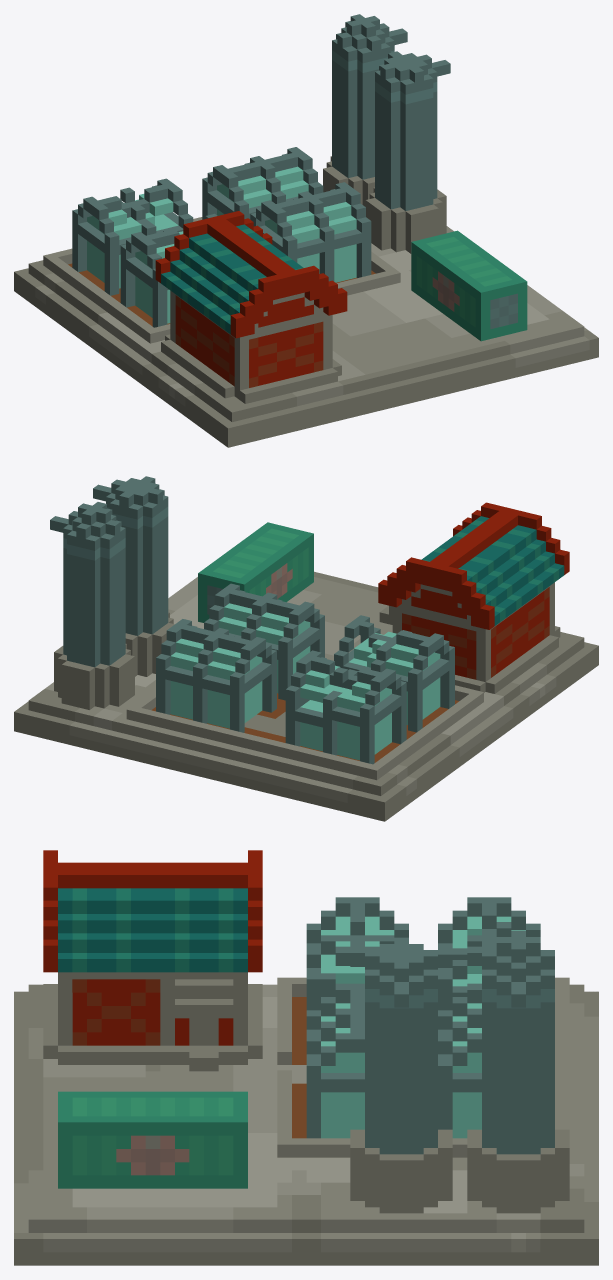
Rendered from Farm.obj.
3 views of the same model, one above another, from view 1: azimuth 30°, elevation 25°; view 2: azimuth 150°, elevation 25°; view 3: azimuth 270°, elevation 25° (orthographic). The views are drawn at different scales.
Size of the model in its own units: 4 by 2.2 by 4.
1 material, 1 textured.
